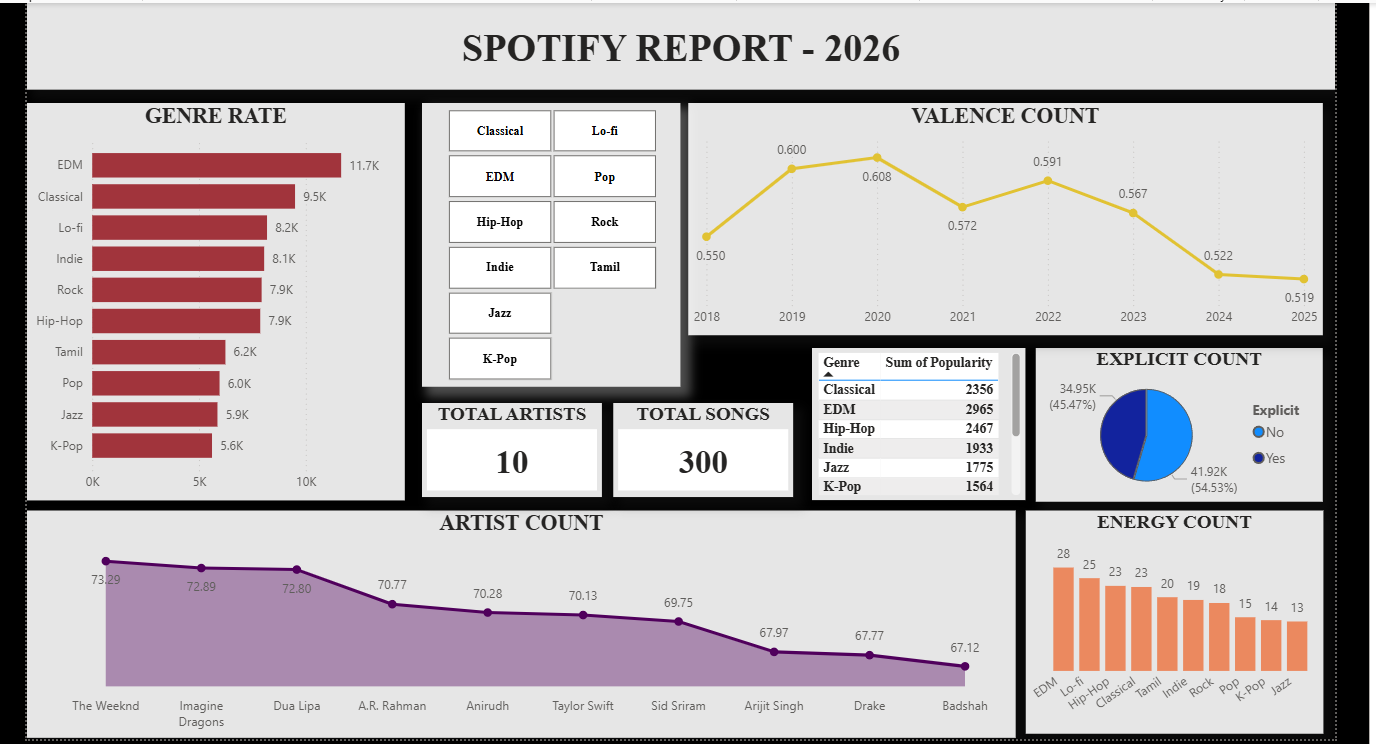

This screenshot's page, from the dashboard's own definition file:
{"tool":"powerbi","page":{"name":"Page 1","canvas":[1280,720],"ordinal":0},"visuals":[{"type":"textbox","box":[0,0,1280,84.5],"z":0},{"type":"clusteredBarChart","title":"GENRE RATE","fields":{"Category":["spotify_dashboard_dataset.Genre"],"Y":["Sum(spotify_dashboard_dataset.Streams_Millions)"]},"box":[0,97.7,369.4,388.9],"z":1000},{"type":"areaChart","title":"ARTIST COUNT","fields":{"Category":["spotify_dashboard_dataset.Artist"],"Y":["Avg(spotify_dashboard_dataset.Popularity)"]},"box":[0,497,967.2,222.3],"z":2000},{"type":"pieChart","title":"EXPLICIT COUNT","fields":{"Y":["Sum(spotify_dashboard_dataset.Streams_Millions)"],"Category":["spotify_dashboard_dataset.Explicit"]},"box":[986.8,337.5,280.9,150.2],"z":3000},{"type":"columnChart","title":"ENERGY COUNT","fields":{"Category":["spotify_dashboard_dataset.Genre"],"Y":["Sum(spotify_dashboard_dataset.Energy)"]},"box":[976.5,497,291.2,218.1],"z":4000},{"type":"lineChart","title":"VALENCE COUNT","fields":{"Category":["spotify_dashboard_dataset.Release_Year"],"Y":["Avg(spotify_dashboard_dataset.Valence)"]},"box":[647.2,97.7,620.5,227.4],"z":5000},{"type":"slicer","fields":{"Values":["spotify_dashboard_dataset.Genre"]},"box":[386.4,97.8,253.1,277.6],"z":6000},{"type":"cardVisual","title":"TOTAL ARTISTS","fields":{"Data":["Count(spotify_dashboard_dataset.Artist)"]},"box":[386.4,391.3,176.1,91.7],"z":7000},{"type":"cardVisual","title":"TOTAL SONGS","fields":{"Data":["Count(spotify_dashboard_dataset.Track_Name)"]},"box":[573.5,391.3,176.1,91.7],"z":8000},{"type":"tableEx","fields":{"Values":["spotify_dashboard_dataset.Genre","Sum(spotify_dashboard_dataset.Popularity)"]},"box":[767.6,337.5,208.9,149.2],"z":9000}]}

Visuals, with their boxes in screenshot pixels (x1, y1, x2, y2):
textbox: x1=22, y1=0, x2=1328, y2=86
"GENRE RATE" clusteredBarChart: x1=22, y1=100, x2=399, y2=497
"ARTIST COUNT" areaChart: x1=22, y1=507, x2=1009, y2=734
"EXPLICIT COUNT" pieChart: x1=1029, y1=345, x2=1316, y2=498
"ENERGY COUNT" columnChart: x1=1018, y1=507, x2=1316, y2=730
"VALENCE COUNT" lineChart: x1=682, y1=100, x2=1316, y2=332
slicer - spotify_dashboard_dataset.Genre: x1=416, y1=100, x2=674, y2=383
"TOTAL ARTISTS" cardVisual: x1=416, y1=399, x2=596, y2=493
"TOTAL SONGS" cardVisual: x1=607, y1=399, x2=787, y2=493
tableEx - spotify_dashboard_dataset.Genre x Sum(spotify_dashboard_dataset.Popularity): x1=805, y1=345, x2=1018, y2=497
